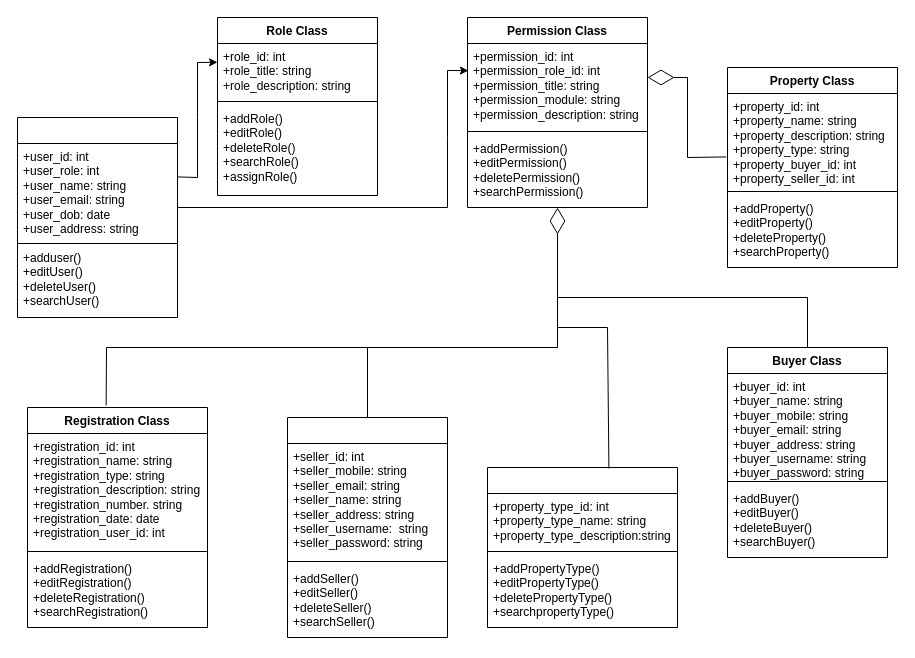
Some shapes in this 915 by 658 pixel diagram are drawn without their labels. Here are the shapes that lost their labels. From the top down, the box of each, then its label:
(16, 116, 178, 318): User Class
(286, 416, 448, 638): Seller Class
(486, 466, 678, 628): Property Type Class
